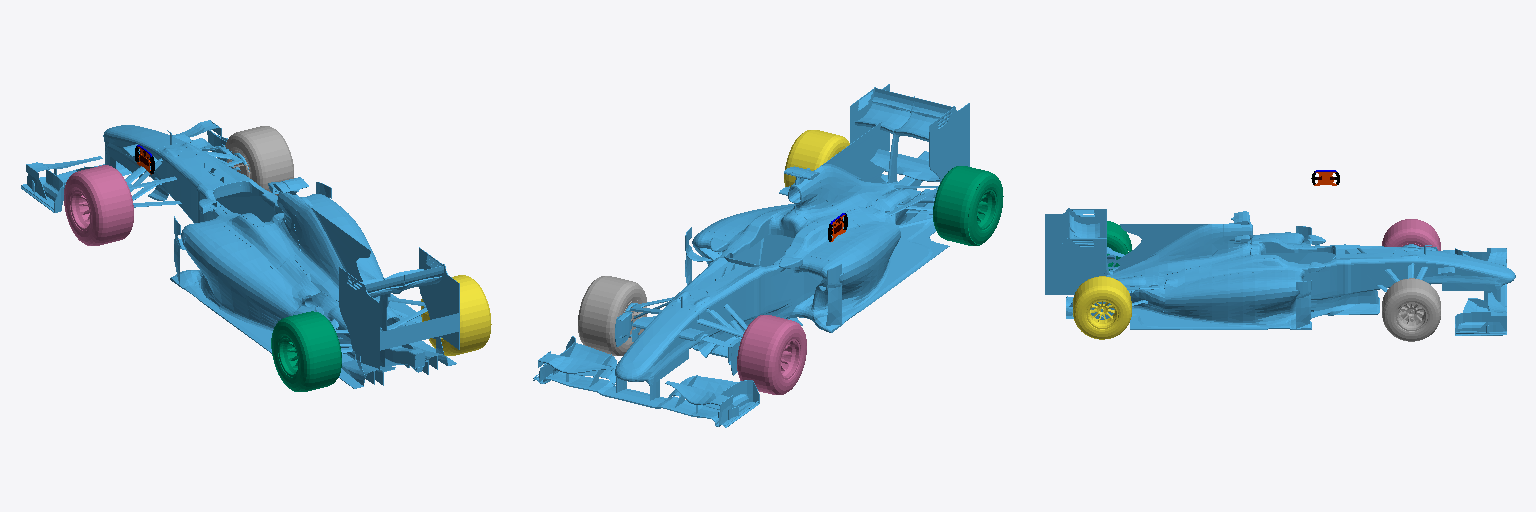
robot.urdf — f1_renault_ackermann_harmonic:
<?xml version="1.0" ?>
<robot name="f1_renault_ackermann_harmonic">
  <link name="base_link">
    <inertial>
      <mass value="0.1"/>
      <inertia ixx="0.001" ixy="0" ixz="0" iyy="0.001" iyz="0" izz="0.001"/>
    </inertial>
  </link>
  <joint name="chassis_link_joint" type="fixed">
    <origin rpy="0 0 0" xyz="0.0 0.0 0.0"/>
    <parent link="base_link"/>
    <child link="chassis_link"/>
  </joint>
  <link name="chassis_link">
    <inertial>
      <origin rpy="0 -0 0" xyz="1e-06 0.07307 0.65096"/>
      <mass value="1580"/>
      <inertia ixx="1997.86" ixy="-3e-05" ixz="-1e-06" iyy="442.769" iyz="62.5206" izz="2238.05"/>
    </inertial>
    <visual>
      <origin rpy="1.5708 -0 1.5708" xyz="0 1.51 0"/>
      <geometry>
        <mesh filename="package://ackermann_cars/models/f1_renault_ackermann_harmonic/Renault/chasis.obj" scale="5 5 5"/>
      </geometry>
    </visual>
  </link>
  <joint name="bl_axle" type="revolute">
    <origin rpy="0 -0 0" xyz="-0.775 -1.83364 0.324997"/>
    <parent link="chassis_link"/>
    <child link="bl_1"/>
    <axis xyz="-1 0 0"/>
    <limit effort="1000" velocity="100"/>
    <dynamics friction="12.031606150200002"/>
  </joint>
  <link name="bl_1">
    <origin rpy="0 -0 0" xyz="0 0 0"/>
    <inertial>
      <origin rpy="0 -0 0" xyz="-0.0377 0 -0"/>
      <mass value="24.5"/>
      <inertia ixx="1.84514" ixy="0" ixz="0" iyy="1.04961" iyz="0" izz="1.04961"/>
    </inertial>
    <visual>
      <origin rpy="0 -0 0" xyz="0.875 0.14 -1.0126"/>
      <geometry>
        <mesh filename="package://ackermann_cars/models/f1_renault_ackermann_harmonic/Renault/back_left.obj" scale="0.1 0.1 0.1"/>
      </geometry>
    </visual>
  </link>
  <joint name="br_axle" type="revolute">
    <origin rpy="0 -0 0" xyz="0.775 -1.83364 0.324997"/>
    <parent link="chassis_link"/>
    <child link="br_1"/>
    <axis xyz="-1 0 0"/>
    <limit effort="1000" velocity="100"/>
    <dynamics friction="12.031606150200002"/>
  </joint>
  <link name="br_1">
    <origin rpy="0 -0 0" xyz="0 0 0"/>
    <inertial>
      <origin rpy="0 -0 0" xyz="-0.0377 0 -0"/>
      <mass value="24.5"/>
      <inertia ixx="1.84514" ixy="0" ixz="0" iyy="1.04961" iyz="0" izz="1.04961"/>
    </inertial>
    <visual>
      <origin rpy="0 -0 0" xyz="-0.875 0.14 -1.0126"/>
      <geometry>
        <mesh filename="package://ackermann_cars/models/f1_renault_ackermann_harmonic/Renault/back_right.obj" scale="0.1 0.1 0.1"/>
      </geometry>
    </visual>
  </link>
  <joint name="steering_joint" type="revolute">
    <origin rpy="0 0 0" xyz="-0.01 0.6 0.6"/>
    <parent link="chassis_link"/>
    <child link="steering_wheel"/>
    <axis xyz="0.0 -1.0 0.0"/>
    <limit effort="100" lower="-5" upper="5" velocity="10"/>
    <dynamics damping="10.0"/>
  </joint>
  <link name="steering_wheel">
    <origin rpy="0 0 1.5708" xyz="0 0.87 -0.54"/>
    <inertial>
      <mass value="0.5"/>
      <inertia ixx="0.01" ixy="0" ixz="0" iyy="0.01" iyz="0" izz="0.01"/>
    </inertial>
    <visual>
      <origin rpy="0 0 0" xyz="0 0 0"/>
      <geometry>
        <mesh filename="package://ackermann_cars/models/f1_renault_ackermann_harmonic/Renault/steering_wheel.dae" scale="4.7 4.7 4.7"/>
      </geometry>
    </visual>
  </link>
  <joint name="front_steering" type="revolute">
    <origin rpy="0 -0 0" xyz="0 1.51736 0.324997"/>
    <parent link="chassis_link"/>
    <child link="front_steering_link"/>
    <axis xyz="0 0 1"/>
    <limit effort="1000" lower="-0.3" upper="0.3" velocity="2"/>
    <dynamics damping="0.1" friction="0.5"/>
  </joint>
  <link name="front_steering_link">
    <origin rpy="0 -0 0" xyz="0 0 0"/>
    <inertial>
      <origin rpy="0 -0 0" xyz="0 0 0"/>
      <mass value="2"/>
      <inertia ixx="0.01" ixy="0" ixz="0" iyy="0.01" iyz="0" izz="0.01"/>
    </inertial>
  </link>
  <joint name="fl_axle" type="revolute">
    <origin rpy="0 -0 0" xyz="-0.825 0 0"/>
    <parent link="front_steering_link"/>
    <child link="fl_1"/>
    <axis xyz="-1 0 0"/>
    <limit effort="1000" velocity="100"/>
    <dynamics friction="12.031606150200002"/>
  </joint>
  <link name="fl_1">
    <origin rpy="0 -0 0" xyz="0 0 0"/>
    <inertial>
      <origin rpy="0 -0 0" xyz="-0.0377 0 -0"/>
      <mass value="24.5"/>
      <inertia ixx="1.84514" ixy="0" ixz="0" iyy="1.04961" iyz="0" izz="1.04961"/>
    </inertial>
    <visual>
      <origin rpy="0 -0 0" xyz="0.875 0.1444 1.5174"/>
      <geometry>
        <mesh filename="package://ackermann_cars/models/f1_renault_ackermann_harmonic/Renault/front_left.obj" scale="0.1 0.1 0.1"/>
      </geometry>
    </visual>
  </link>
  <joint name="fr_axle" type="revolute">
    <origin rpy="0 -0 0" xyz="0.825 0 0"/>
    <parent link="front_steering_link"/>
    <child link="fr_1"/>
    <axis xyz="-1 0 0"/>
    <limit effort="1000" velocity="100"/>
    <dynamics friction="12.031606150200002"/>
  </joint>
  <link name="fr_1">
    <origin rpy="0 -0 0" xyz="0 0 0"/>
    <inertial>
      <origin rpy="0 -0 0" xyz="-0.0377 0 -0"/>
      <mass value="24.5"/>
      <inertia ixx="1.84514" ixy="0" ixz="0" iyy="1.04961" iyz="0" izz="1.04961"/>
    </inertial>
    <visual>
      <origin rpy="0 -0 0" xyz="-0.875 0.1444 1.5174"/>
      <geometry>
        <mesh filename="package://ackermann_cars/models/f1_renault_ackermann_harmonic/Renault/front_right.obj" scale="0.1 0.1 0.1"/>
      </geometry>
    </visual>
  </link>
</robot>

--- Render facts (derived) ---
Views: 3 orthographic renders of the robot side by side, from view 1: azimuth 30°, elevation 25°; view 2: azimuth 150°, elevation 25°; view 3: azimuth 270°, elevation 25°.
Model f1_renault_ackermann_harmonic with 8 links and 7 joints (6 revolute, 1 fixed), rooted at base_link, posed all joints at 0.
Links seen in each view (by area): view 1: chassis_link, bl_1, fl_1, fr_1, br_1; view 2: chassis_link, bl_1, fl_1, fr_1, br_1; view 3: chassis_link, fr_1, br_1, fl_1, bl_1.
Boxes of the visible links, x1,y1,x2,y2 form: chassis_link: (21,120,459,388); bl_1: (271,311,341,391); fl_1: (64,165,133,245); fr_1: (225,126,293,195); br_1: (421,275,491,355); chassis_link: (533,84,969,427); bl_1: (933,166,1003,245); fl_1: (737,315,806,394); fr_1: (578,276,646,355); br_1: (784,130,849,186); chassis_link: (1045,208,1515,335); fr_1: (1382,278,1440,341); br_1: (1073,276,1131,339); fl_1: (1382,219,1440,250); bl_1: (1107,221,1131,270).
Size in the robot's own frame: 1.9 by 5.11 by 1.23 metres.
Meshes: 6 distinct files referenced, 6 mesh visuals loaded (1 Collada DAE, 5 OBJ).
